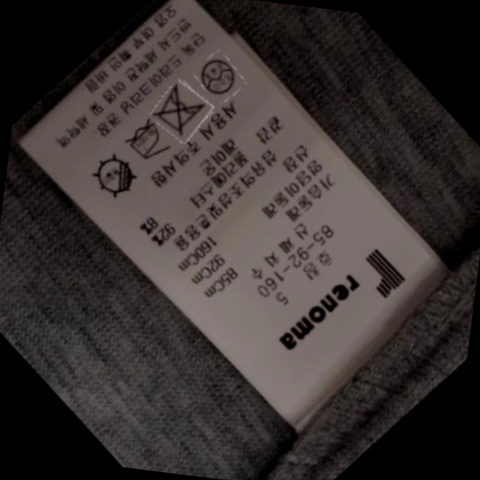DN_wash: (153, 85, 211, 136)
dry_clean_petrol_only: (197, 53, 242, 97)
iron_low: (121, 120, 172, 165)
line_dry_in_shade: (90, 154, 146, 201)
